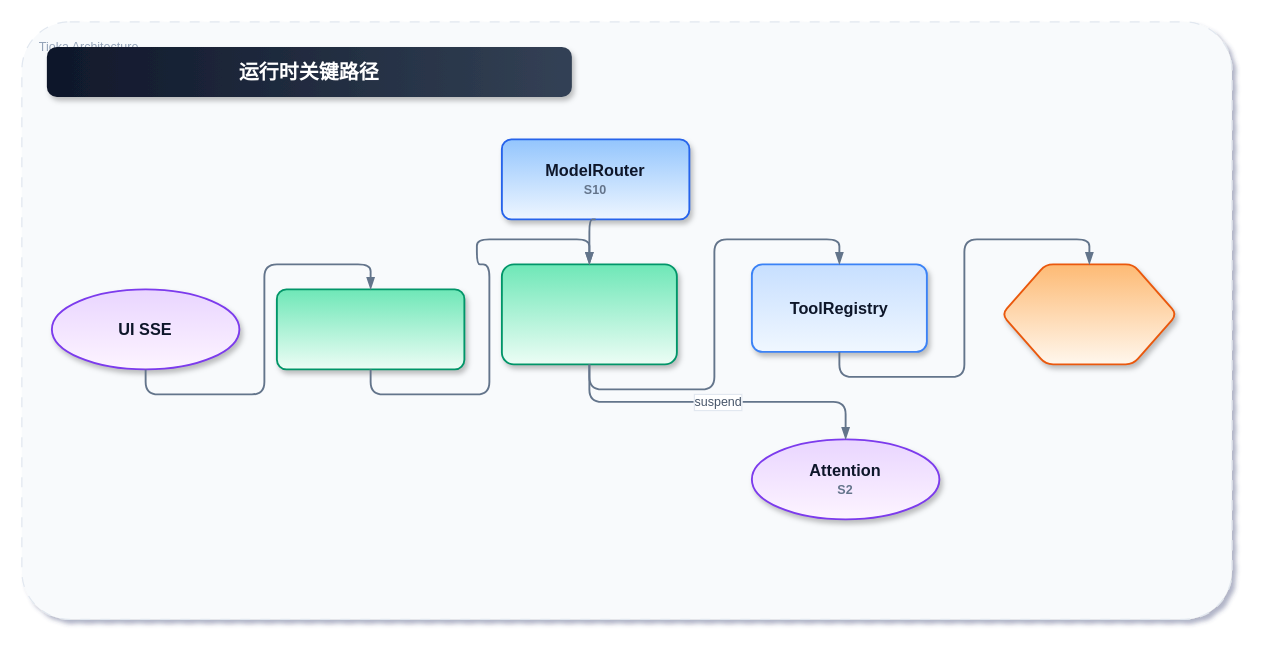
Some shapes in this 1261 by 649 pixel diagram are drawn without their labels. Here are the shapes that lost their labels. From the top down, the centre of each, then its label:
At [371,330]: "Chat".
At [590,316]: "Runtime Turn Loop".
At [1090,316]: "MCP/KB/Flow/ Skill/Builtin".
